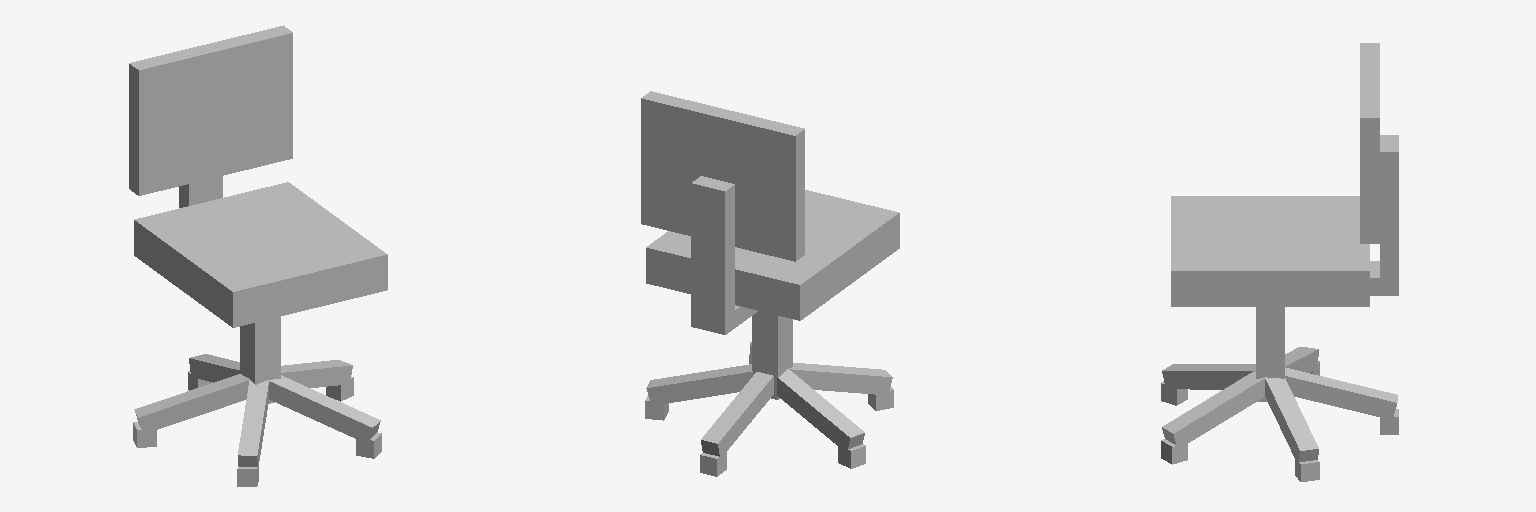
File: 2196_office_chair.obj
3 views of the same model, side by side, from view 1: azimuth 30°, elevation 25°; view 2: azimuth 150°, elevation 25°; view 3: azimuth 270°, elevation 25° (orthographic).
Parts seen in each view (by area): view 1: Dossier$C, Seat$C, Assise, Pied4, Pied2, Metal2, Pied5, Pied3, Dossier, Pied1, métal; view 2: Dossier, Seat$C, métal, Assise, Pied2, Pied1, Pied3, Metal2, Pied5, Dossier$C, Roulette1; view 3: Seat$C, Assise, métal, Pied4, Pied1, Pied3, Metal2, Dossier$C, Dossier, Pied5, Pied2, Roulette4.
Boxes of the visible parts, box(x1,y1,x2,y2) form: Dossier$C: box(134, 29, 292, 195); Seat$C: box(134, 182, 387, 309); Assise: box(134, 238, 387, 327); Pied4: box(268, 375, 380, 443); Pied2: box(134, 374, 249, 433); Metal2: box(240, 317, 280, 403); Pied5: box(238, 380, 268, 466); Pied3: box(281, 360, 352, 387); Dossier: box(129, 25, 287, 191); Pied1: box(189, 354, 239, 382); métal: box(179, 176, 222, 207); Dossier: box(641, 95, 799, 261); Seat$C: box(646, 190, 899, 302); métal: box(691, 176, 734, 334); Assise: box(646, 231, 899, 320); Pied2: box(777, 369, 864, 452); Pied1: box(701, 372, 773, 458); Pied3: box(646, 364, 752, 405); Metal2: box(752, 311, 792, 399); Pied5: box(789, 363, 892, 394); Dossier$C: box(646, 91, 804, 257); Roulette1: box(700, 452, 726, 476); Seat$C: box(1171, 196, 1369, 288); Assise: box(1171, 289, 1369, 306); métal: box(1380, 135, 1398, 295); Pied4: box(1162, 371, 1264, 445); Pied1: box(1285, 367, 1397, 419); Pied3: box(1265, 377, 1318, 461); Metal2: box(1256, 307, 1284, 401); Dossier$C: box(1360, 43, 1369, 243); Dossier: box(1370, 43, 1379, 243); Pied5: box(1162, 364, 1255, 389); Pied2: box(1285, 347, 1318, 372); Roulette4: box(1161, 439, 1187, 464).
Bounding box in the file's own units: 0.7898 × 1.22 × 0.7523.